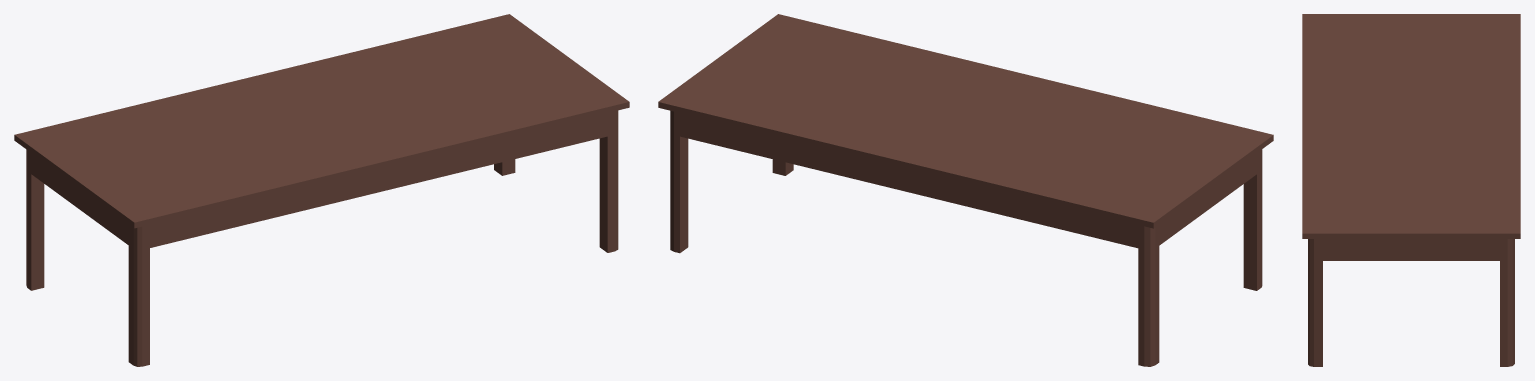
Rendered from dinner_table.fbx.
3 renders of one model, left to right at view 1: azimuth 30°, elevation 25°; view 2: azimuth 150°, elevation 25°; view 3: azimuth 270°, elevation 25°, orthographic. The views are drawn at different scales.
Visible parts, largest first — view 1: dinner_table; view 2: dinner_table; view 3: dinner_table.
Boxes of the visible parts, x1=… form: dinner_table: x1=14, y1=14, x2=629, y2=366; dinner_table: x1=658, y1=14, x2=1273, y2=366; dinner_table: x1=1302, y1=14, x2=1520, y2=366.
Size of the model in its own units: 340 by 97.71 by 143.
